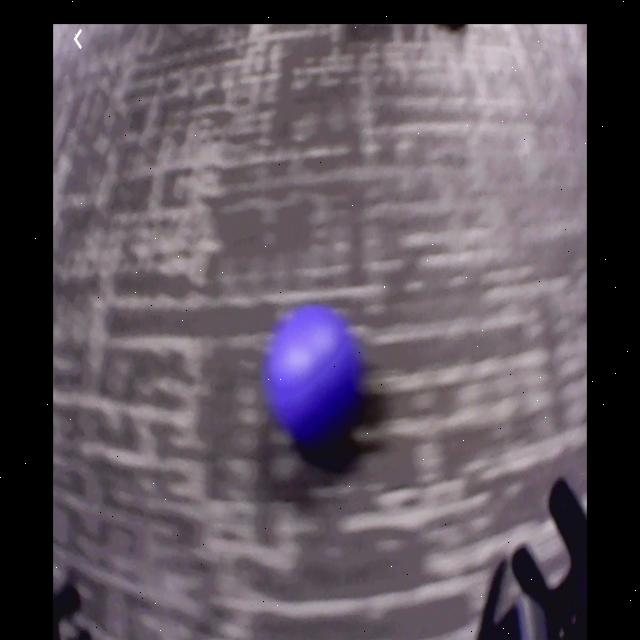ball: (270, 310, 356, 436)
